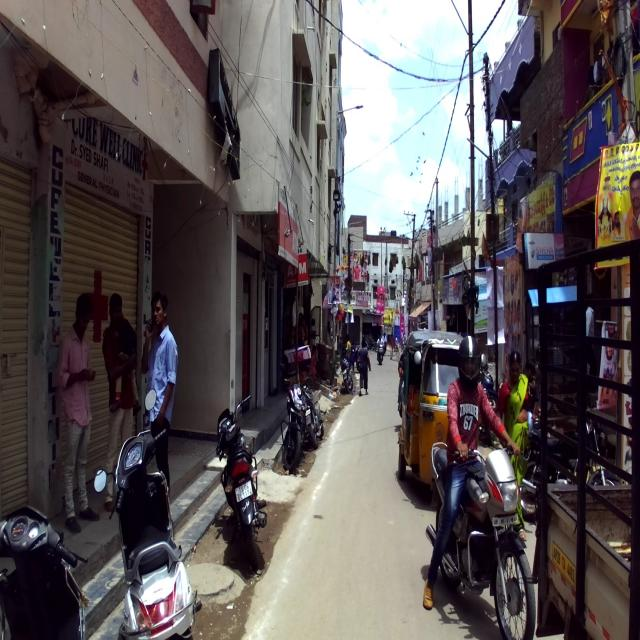autorickshaw: (397, 327, 470, 487)
motorcycle: (425, 441, 537, 639), (213, 394, 267, 568), (280, 372, 310, 471)
scooter: (94, 386, 202, 639), (0, 498, 90, 638)
truck: (528, 229, 639, 638)
